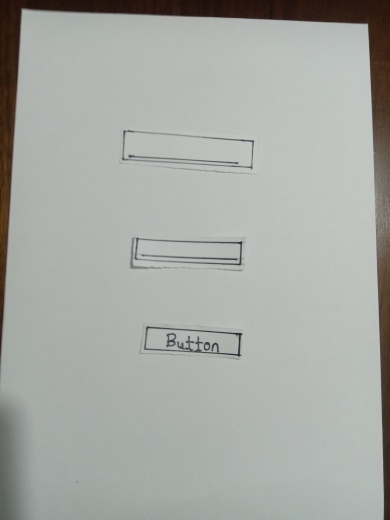button: (143, 327, 243, 355)
text: (120, 130, 254, 170), (131, 238, 243, 269)
